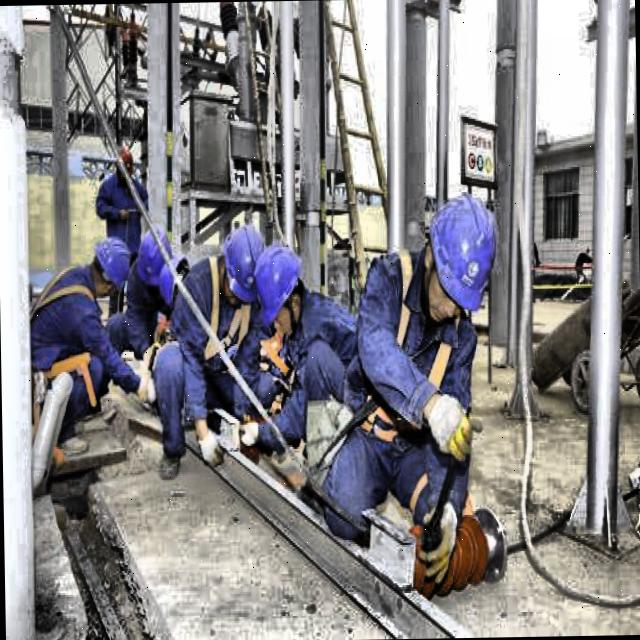helmet: (422, 183, 504, 321), (250, 242, 306, 336), (217, 212, 267, 298), (90, 236, 132, 300), (135, 222, 171, 296), (158, 252, 195, 308), (112, 142, 138, 182)
